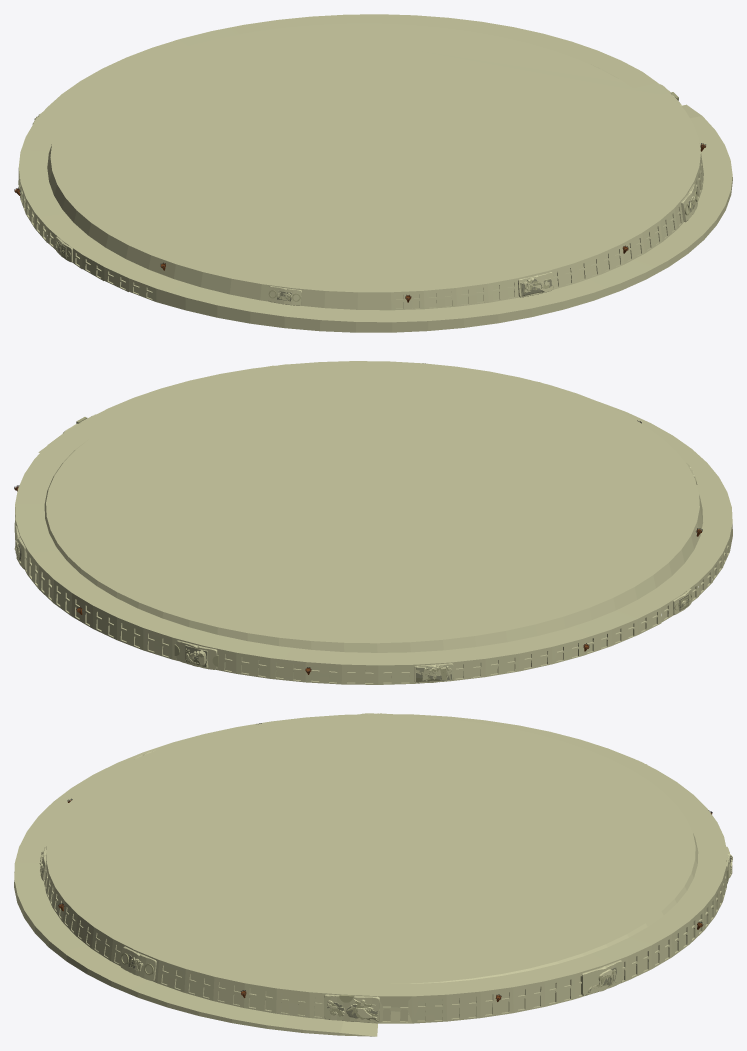
The model's file is ESCENARIO1.0.fbx.
3 renders of one model, top to bottom at view 1: azimuth 30°, elevation 25°; view 2: azimuth 150°, elevation 25°; view 3: azimuth 270°, elevation 25°, orthographic. The views are drawn at different scales.
Parts seen in each view (by area): view 1: Spiral.002; view 2: Spiral.002; view 3: Spiral.002.
Part boxes in pixels (x1,y1,x2,y2): Spiral.002: [14, 14, 732, 332]; Spiral.002: [14, 361, 732, 684]; Spiral.002: [14, 713, 732, 1036].
Size of the model in its own units: 23581 by 1006 by 23149.
